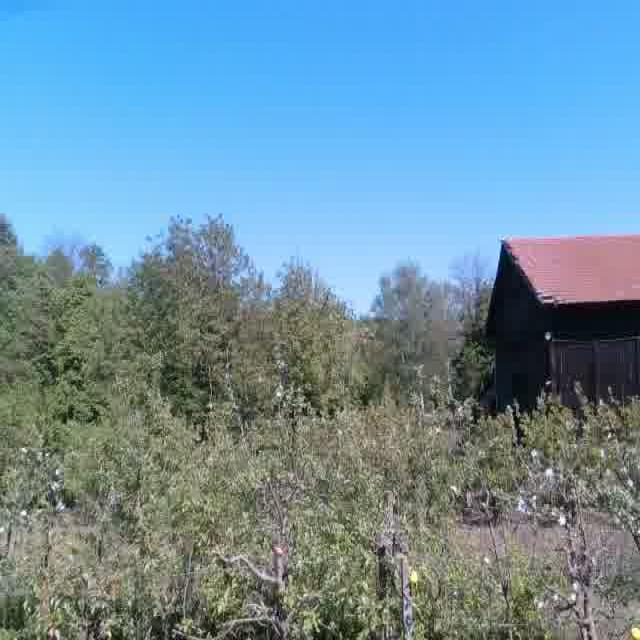yellow: (626, 622, 640, 640), (408, 568, 418, 584)
